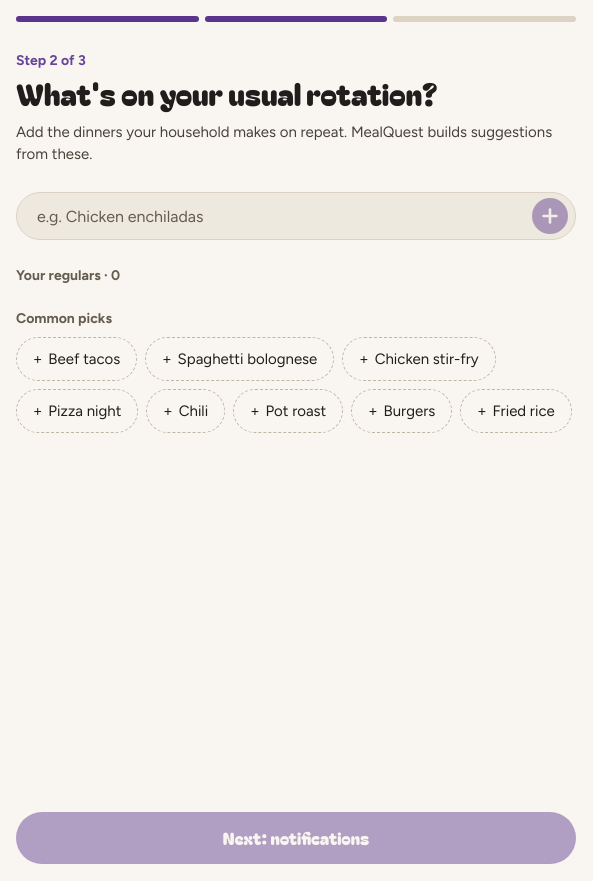
Test: onboarding step 2 (mock 1h) › adds a Regular on Enter, showing it before the server answers
The image size is (593, 881).
expect the heading "Common picks" is shown: met, box [16, 310, 112, 327]
Type "  Chicken enchiladas " into the field named "Dinner name" at x=296, y=216, box [16, 192, 576, 240]
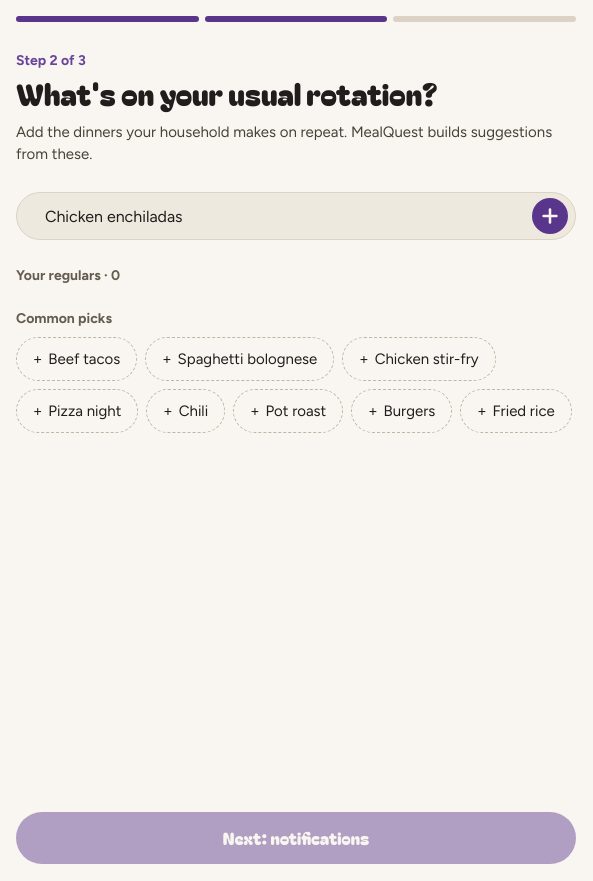
// Enter in the input submits its form.
Submit the form from the field named "Dinner name", box [16, 192, 576, 240]
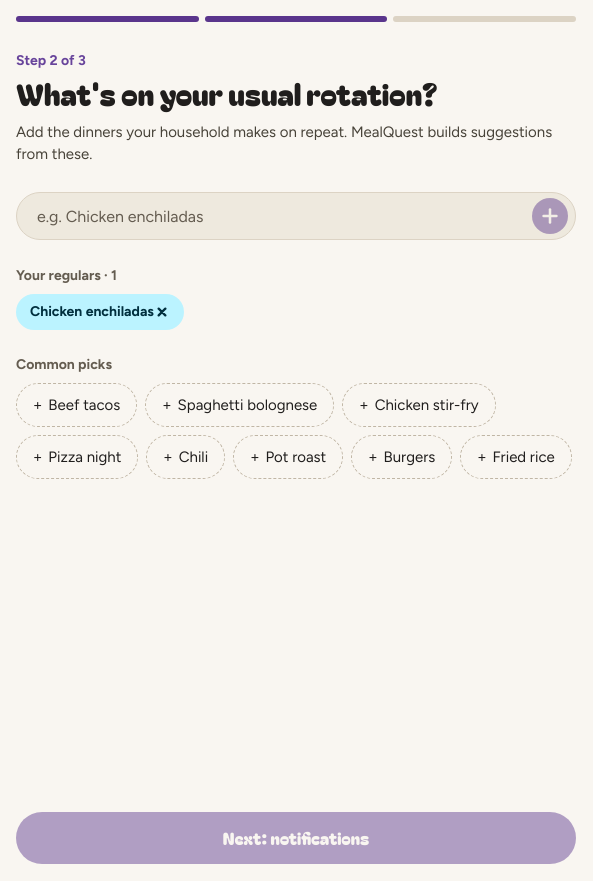
expect the field named "Dinner name" is empty: met, box [16, 192, 576, 240]
expect the heading "Your regulars · 1" is shown: met, box [16, 267, 117, 284]
expect the button named "Remove Chicken enchiladas" is shown: met, box [140, 290, 184, 334]
